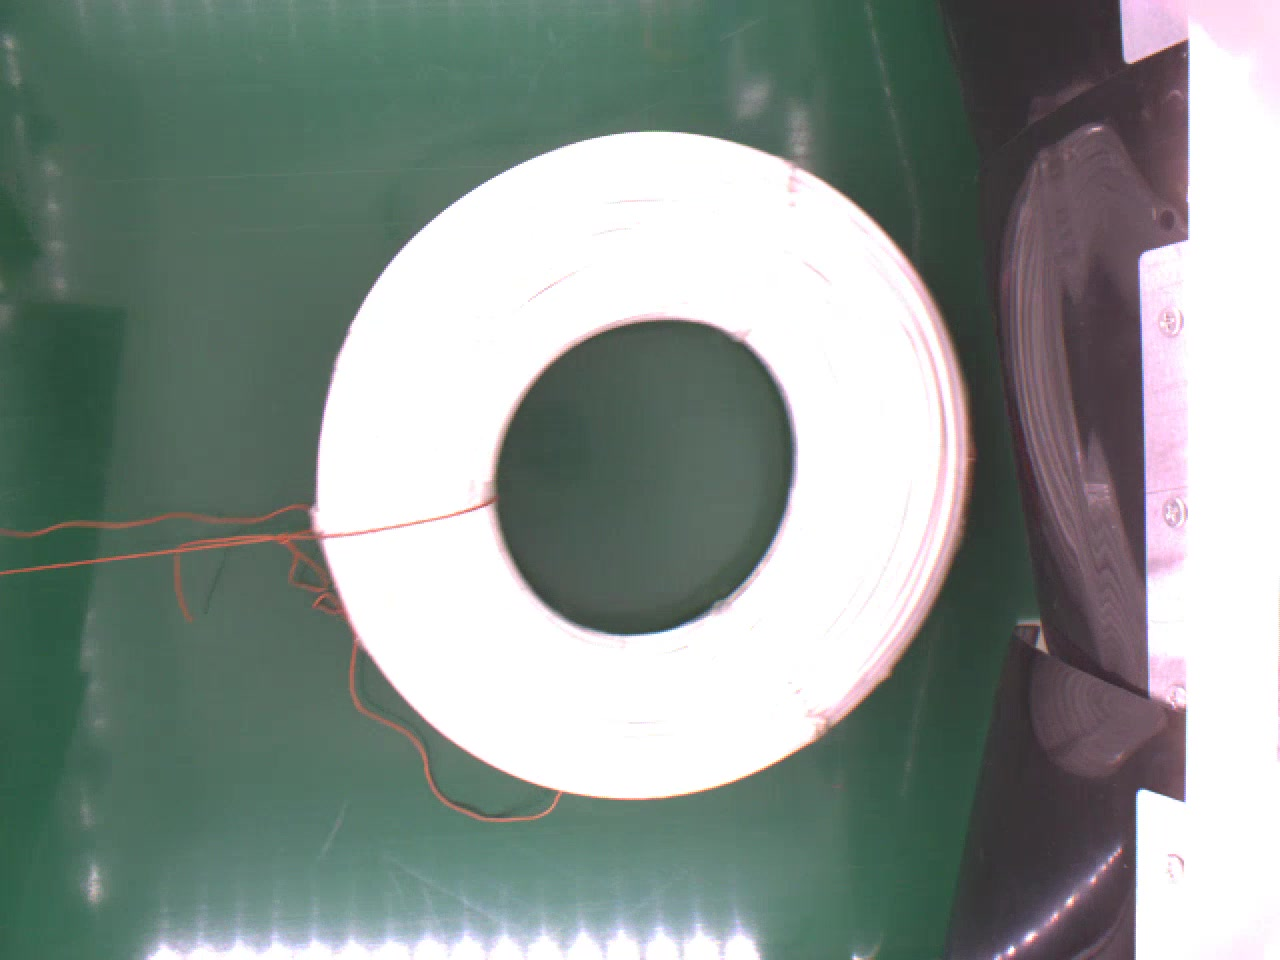white: (306, 122, 973, 803)
